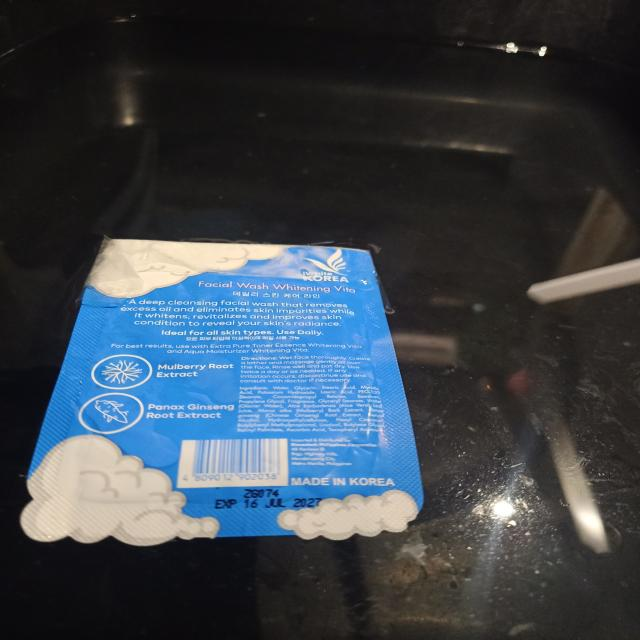Plastic Wrapper: (21, 237, 423, 546)
